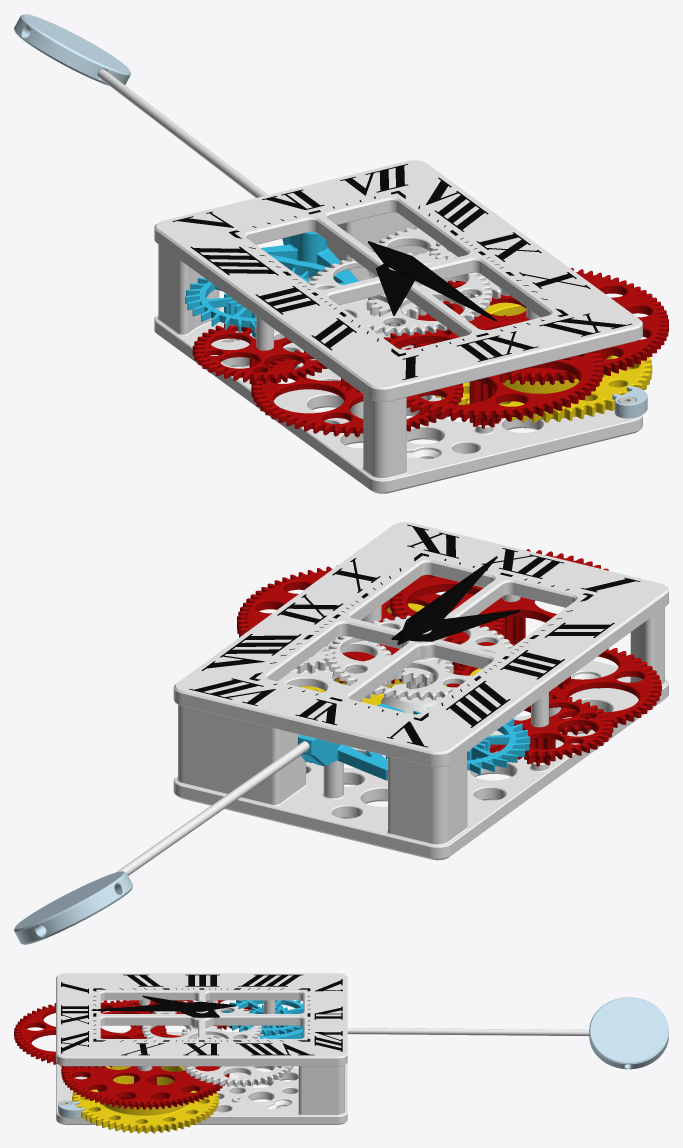
The model's file is clock.glb.
3 views of the same model, one above another, from view 1: azimuth 30°, elevation 25°; view 2: azimuth 150°, elevation 25°; view 3: azimuth 270°, elevation 25° (orthographic). The views are drawn at different scales.
Parts seen in each view (by area): view 1: Mirror Front, Mirror Back, 2nd Wheel, Part 4, 3rd Wheel, Part 3, 4th Wheel, Hour Wheel, Pendant, Mirror Esc Pallet, Pendulm Rod, Mirror Esc Wheel (+9 smaller); view 2: Mirror Front, Mirror Back, Hour Wheel, 3rd Wheel, 4th Wheel, Pendant, Part 4, 2nd Wheel, Pendulm Rod, Motion Works, Mirror Esc Wheel, Mirror Esc Pallet (+9 smaller); view 3: Mirror Front, Mirror Back, Part 4, Pendant, Part 3, 2nd Wheel, Pendulm Rod, Motion Works, Mirror Esc Wheel, Hour Wheel, Minute Hand, Part 74 (+9 smaller).
Part boxes in pixels (bbox=[...]): Mirror Front: bbox=[154, 160, 642, 401]; Mirror Back: bbox=[154, 212, 642, 493]; 2nd Wheel: bbox=[384, 314, 603, 428]; Part 4: bbox=[411, 268, 668, 385]; 3rd Wheel: bbox=[251, 347, 463, 437]; Part 3: bbox=[435, 302, 652, 422]; 4th Wheel: bbox=[192, 323, 327, 384]; Hour Wheel: bbox=[308, 252, 492, 335]; Pendant: bbox=[14, 14, 130, 85]; Mirror Esc Pallet: bbox=[261, 232, 359, 285]; Pendulm Rod: bbox=[97, 69, 267, 197]; Mirror Esc Wheel: bbox=[185, 267, 310, 337]; Mirror Front: bbox=[173, 522, 668, 767]; Mirror Back: bbox=[173, 607, 668, 860]; Hour Wheel: bbox=[326, 615, 513, 700]; 3rd Wheel: bbox=[446, 643, 661, 735]; 4th Wheel: bbox=[490, 694, 613, 766]; Pendant: bbox=[14, 871, 132, 944]; Part 4: bbox=[237, 565, 503, 683]; 2nd Wheel: bbox=[390, 549, 608, 645]; Pendulm Rod: bbox=[116, 741, 309, 875]; Motion Works: bbox=[277, 637, 394, 701]; Mirror Esc Wheel: bbox=[386, 707, 530, 774]; Mirror Esc Pallet: bbox=[298, 703, 404, 780]; Mirror Front: bbox=[56, 973, 347, 1071]; Mirror Back: bbox=[56, 1032, 347, 1124]; Part 4: bbox=[61, 1035, 229, 1109]; Pendant: bbox=[589, 997, 668, 1069]; Part 3: bbox=[72, 1066, 218, 1133]; 2nd Wheel: bbox=[14, 1000, 166, 1068]; Pendulm Rod: bbox=[347, 1028, 589, 1036]; Motion Works: bbox=[182, 1036, 293, 1086]; Mirror Esc Wheel: bbox=[222, 1000, 303, 1035]; Hour Wheel: bbox=[142, 1001, 261, 1038]; Minute Hand: bbox=[91, 1001, 235, 1011]; Part 74: bbox=[236, 1043, 314, 1055].
Size of the model in its own units: 0.2307 by 0.0681 by 0.5168.
